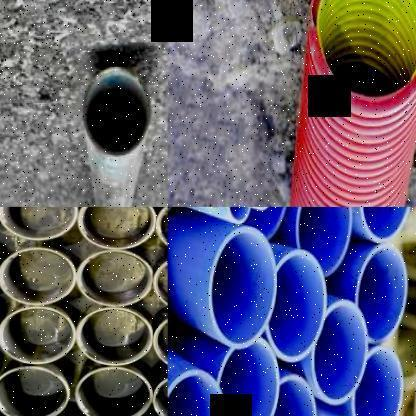pipe: (311, 1, 416, 113), (209, 226, 277, 349), (265, 248, 327, 362), (82, 65, 150, 159), (312, 300, 368, 404), (355, 244, 408, 344), (218, 337, 280, 416), (76, 248, 154, 308), (76, 307, 152, 367), (0, 304, 76, 364), (0, 245, 76, 305), (294, 207, 352, 276), (73, 366, 153, 416), (352, 346, 404, 416), (0, 365, 70, 416), (76, 206, 157, 250), (167, 368, 228, 416), (0, 207, 79, 241), (258, 373, 317, 416), (359, 207, 414, 243), (228, 207, 251, 224), (251, 207, 275, 211)
